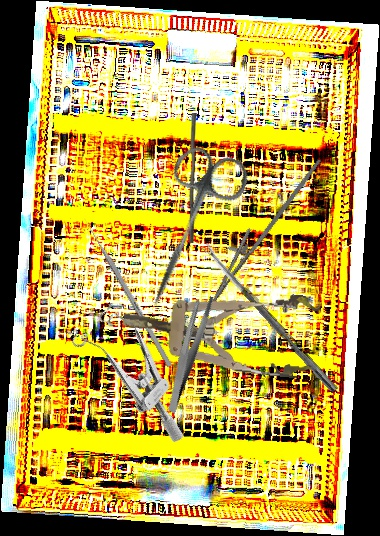Dressing Forceps: (139, 291, 238, 414)
Iris Scissors: (123, 139, 254, 320)
Needle Holder: (198, 141, 323, 315)
Pusher: (82, 216, 173, 368), (186, 112, 200, 244)
Speculum: (55, 291, 221, 446), (119, 277, 321, 380)
Surgical Spoon: (201, 241, 339, 394)
